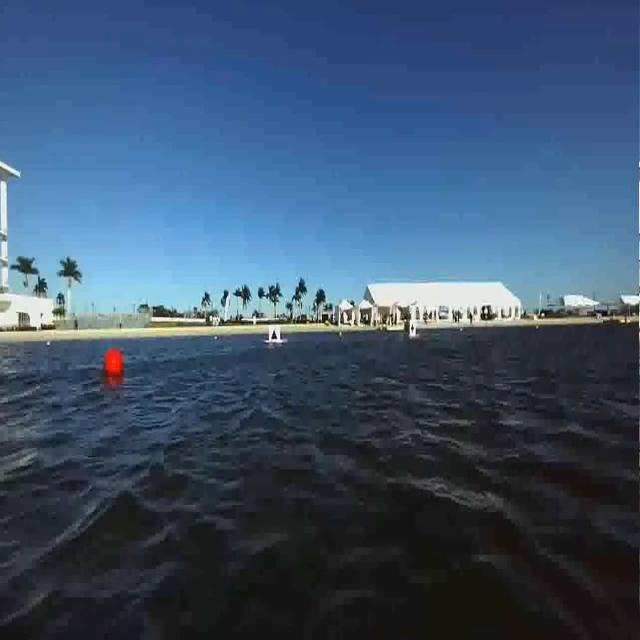red-buoy: (106, 349, 126, 379)
